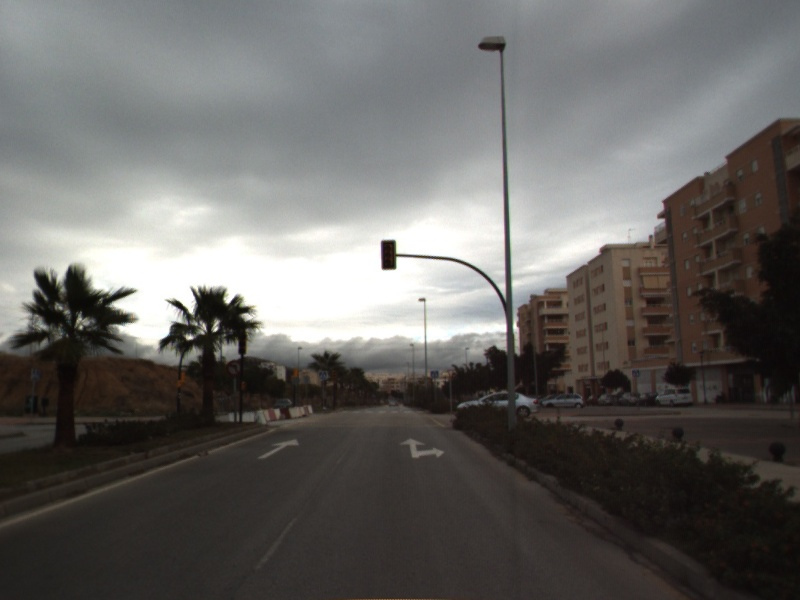STRAIGHT: (256, 437, 301, 461)
STRAIGHT_RIGHT: (398, 436, 447, 460)
